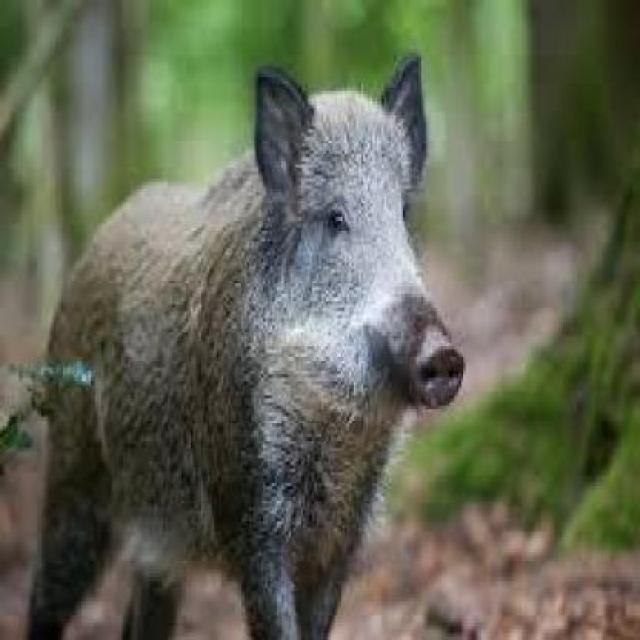wildboar: (19, 46, 470, 640)
